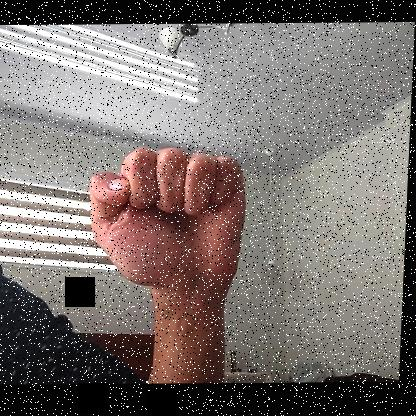A: (88, 143, 251, 291)
